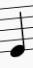E: (9, 5, 28, 59)
